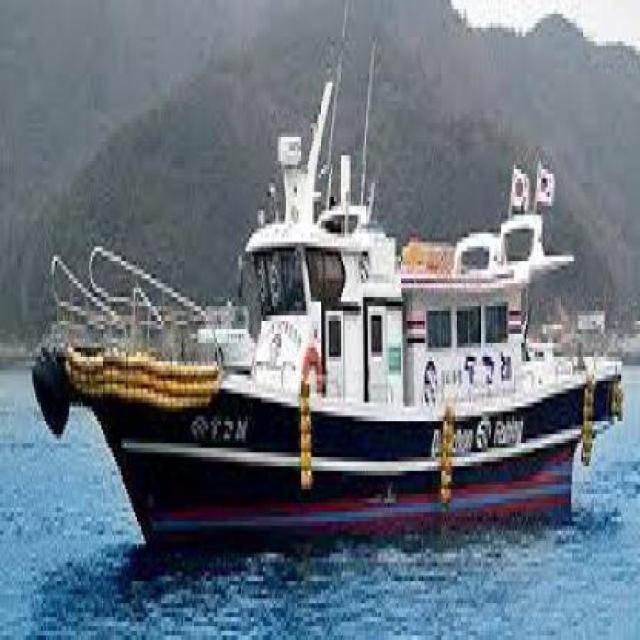fish-b: (4, 42, 640, 573)
